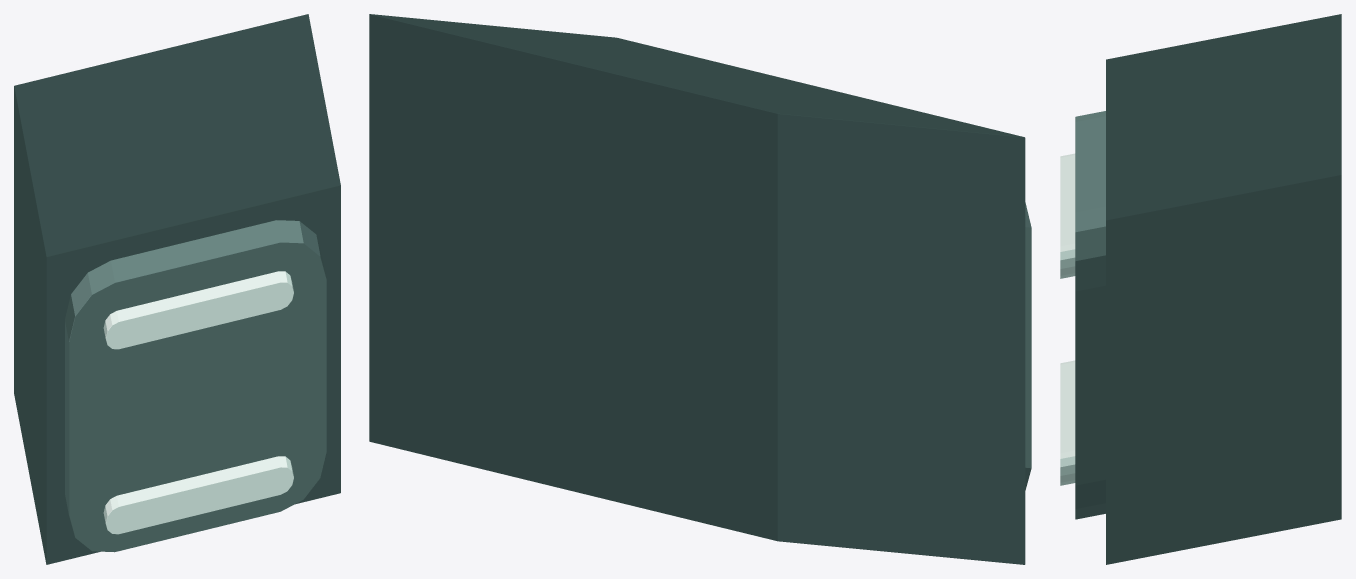
The model's file is LockWall_Tile.gltf.
3 views of the same model, side by side, from view 1: azimuth 30°, elevation 25°; view 2: azimuth 150°, elevation 25°; view 3: azimuth 270°, elevation 25° (orthographic). The views are drawn at different scales.
Visible parts, largest first — view 1: LockWall_Tile_baked; view 2: LockWall_Tile_baked; view 3: LockWall_Tile_baked.
Boxes of the visible parts, x1,y1,x2,y2 form: LockWall_Tile_baked: (14,14,340,564); LockWall_Tile_baked: (369,14,1031,564); LockWall_Tile_baked: (1060,14,1341,564).
Size of the model in its own units: 1.25 by 1.25 by 0.74.
